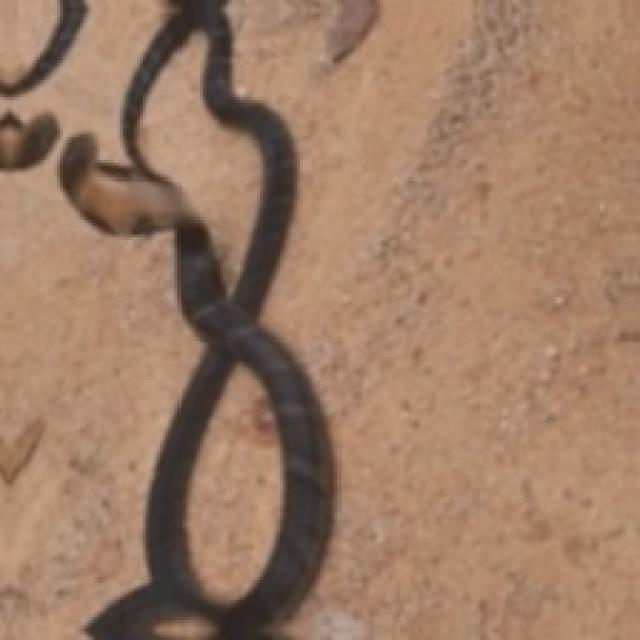king cobra: (60, 0, 331, 637)
